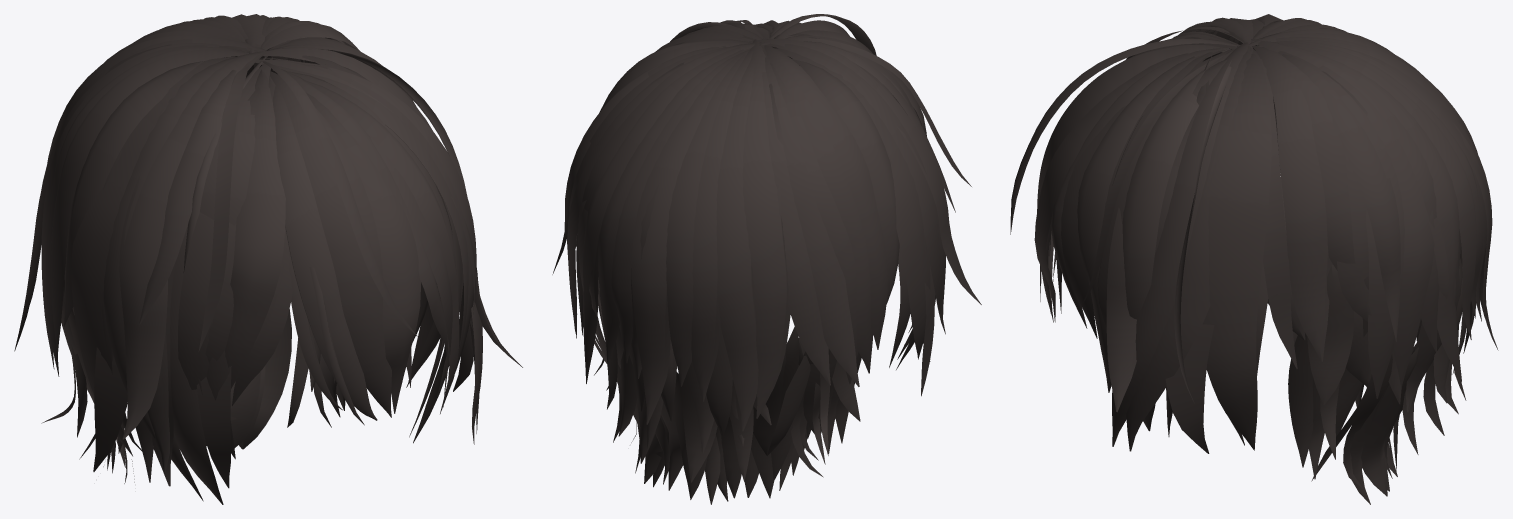
File: vroid_hair_sC.glb
3 renders of one model, left to right at view 1: azimuth 30°, elevation 25°; view 2: azimuth 150°, elevation 25°; view 3: azimuth 270°, elevation 25°, orthographic. The views are drawn at different scales.
Parts seen in each view (by area): view 1: part; view 2: part; view 3: part.
Boxes of the visible parts, x1,y1,x2,y2 form: part: [14, 14, 522, 504]; part: [552, 14, 981, 504]; part: [1010, 14, 1498, 504].
Size of the model in its own units: 0.2214 by 0.2594 by 0.2641.
1 material, 1 textured.
